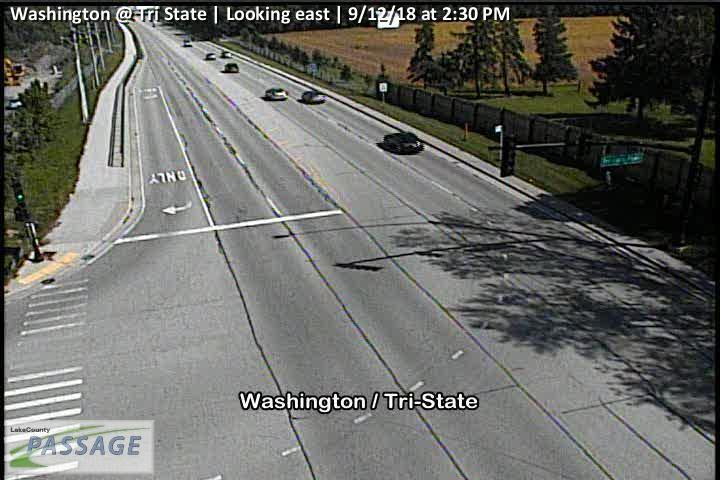Sedan: (382, 131, 424, 154), (301, 90, 325, 104), (265, 86, 288, 100), (223, 61, 238, 73), (205, 50, 216, 62), (221, 48, 234, 58), (183, 38, 193, 48)
